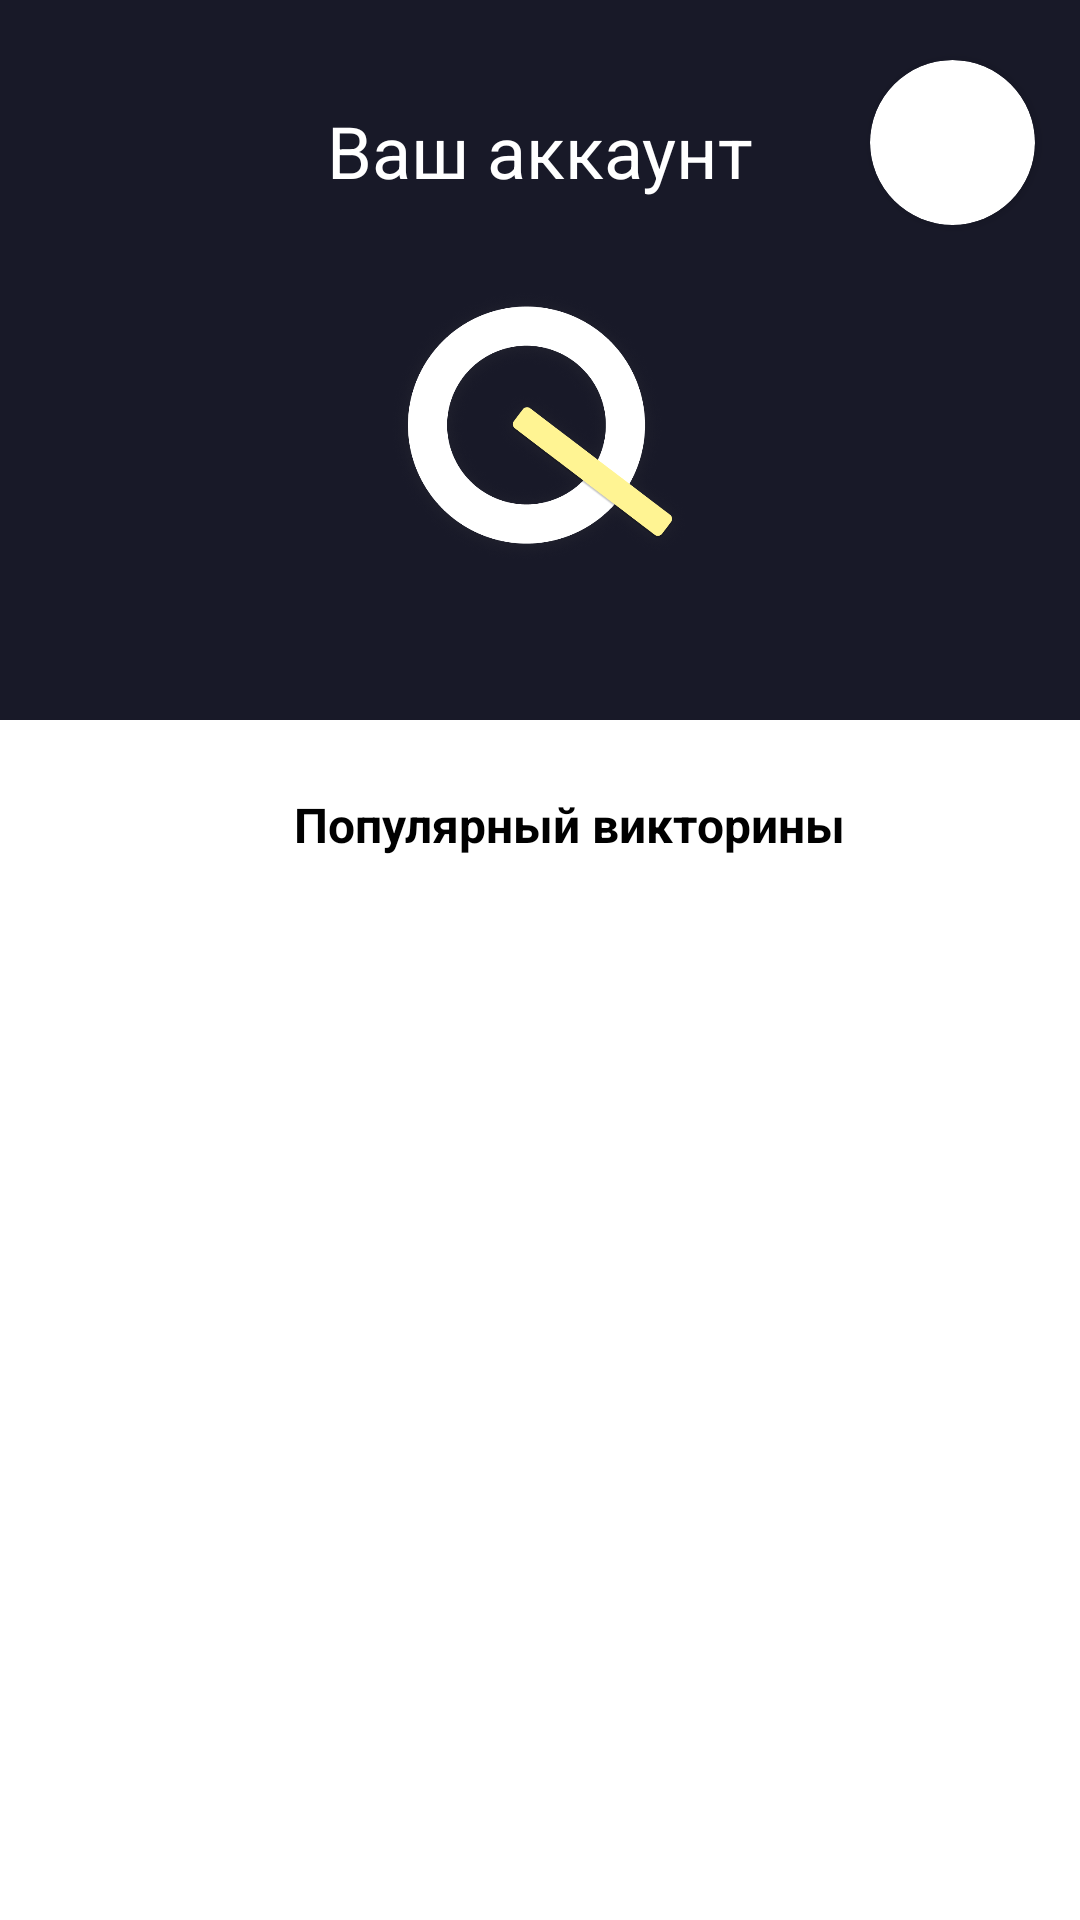

Locate icon controls on the screen. Image size 1080w x 1920h, boxes as rect(x1, y1, x2, y2).
quizz: rect(408, 306, 672, 544)
